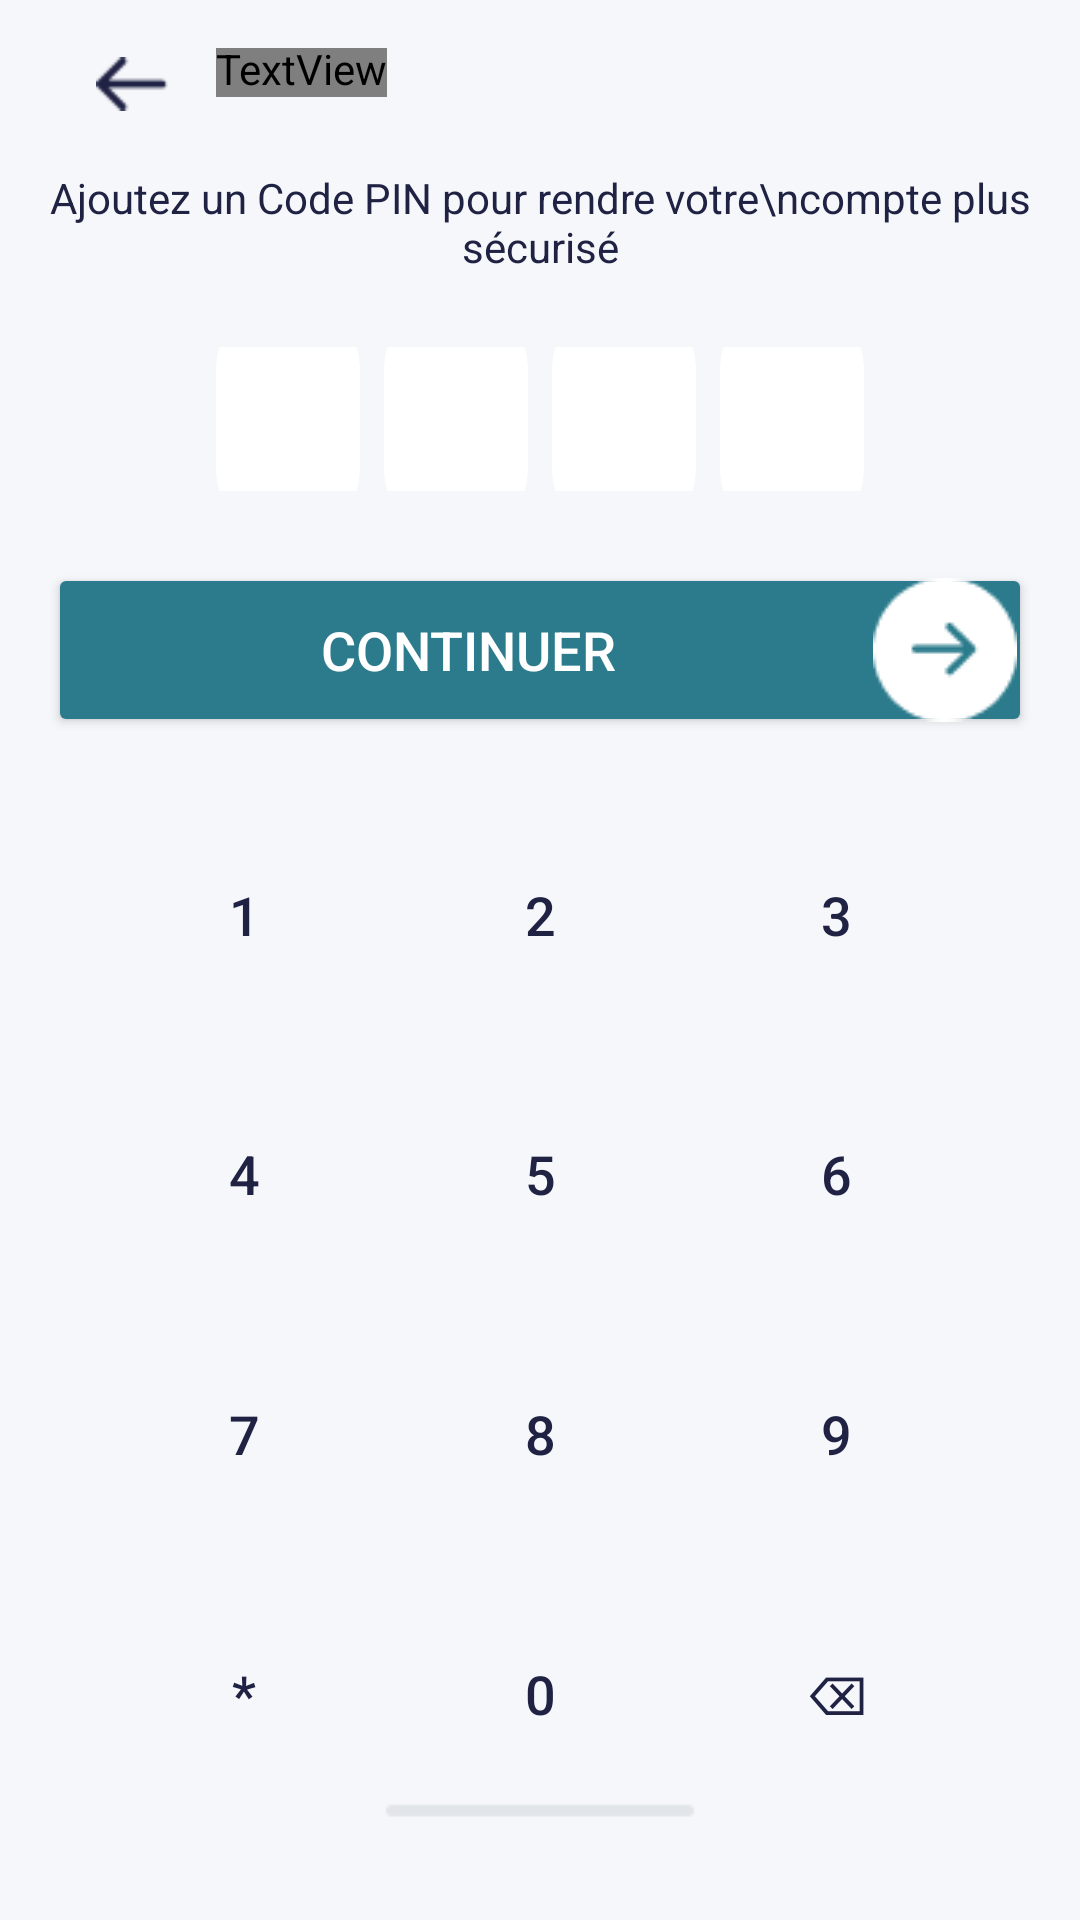

Where icons sit on this 1080px x 1920px app screen, as [left=x1, top=y1, right=x2, bottom=y2]:
back arrow: [left=96, top=57, right=168, bottom=111]
